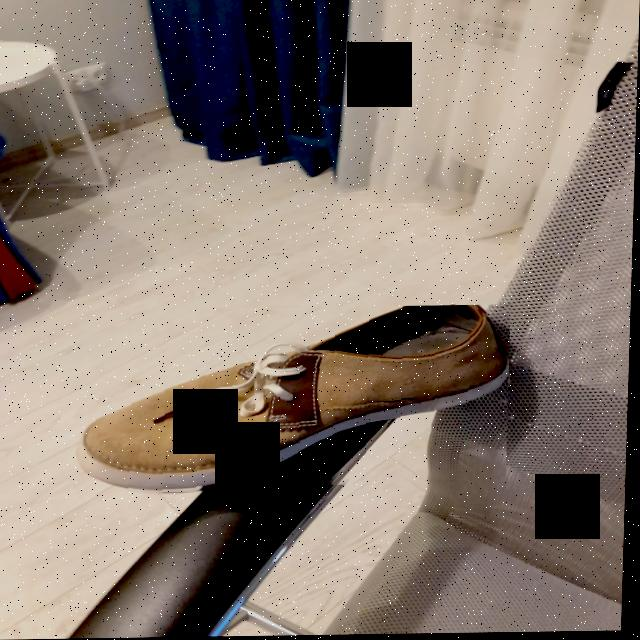shoe: (81, 306, 511, 494)
